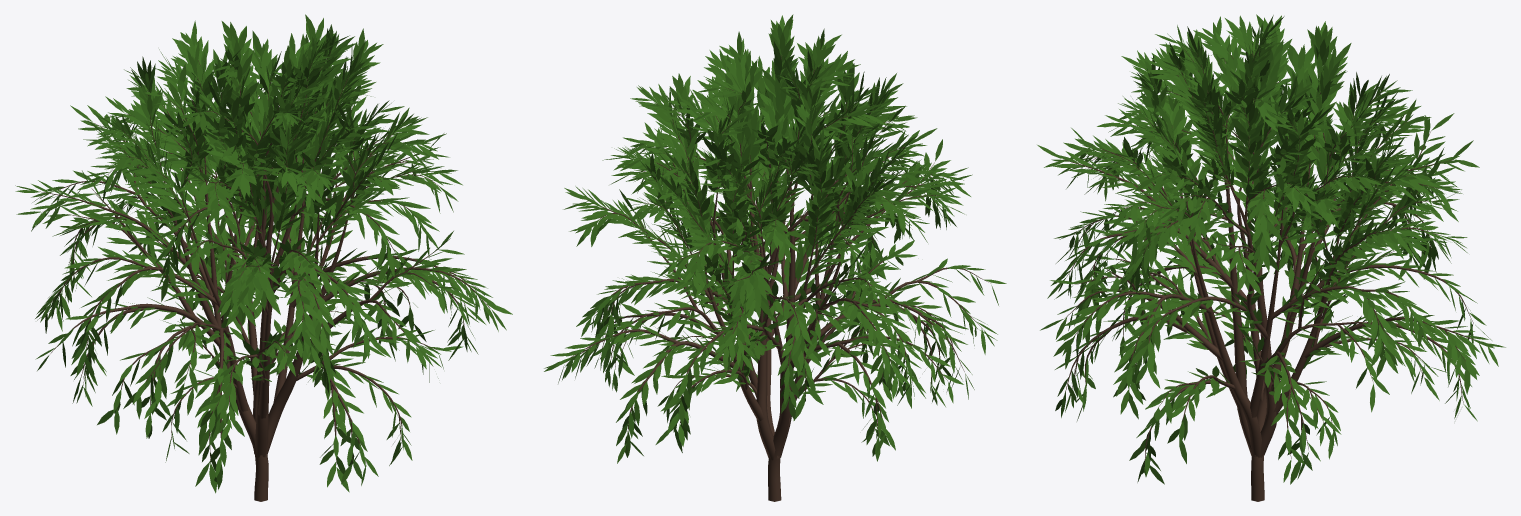
The model's file is Tree 2.fbx.
The picture shows the model from 3 angles, left to right: view 1: azimuth 30°, elevation 25°; view 2: azimuth 150°, elevation 25°; view 3: azimuth 270°, elevation 25°; orthographic projection. The views are drawn at different scales.
Parts seen in each view (by area): view 1: leaves, tree; view 2: leaves, tree; view 3: leaves, tree.
Boxes of the visible parts, x1,y1,x2,y2 form: leaves: (15,14,512,493); tree: (40,52,490,501); leaves: (544,14,1006,463); tree: (565,55,990,501); leaves: (1037,14,1505,484); tree: (1063,39,1474,501).
Bounding box in the file's own units: 5.78 × 6.82 × 6.05.
